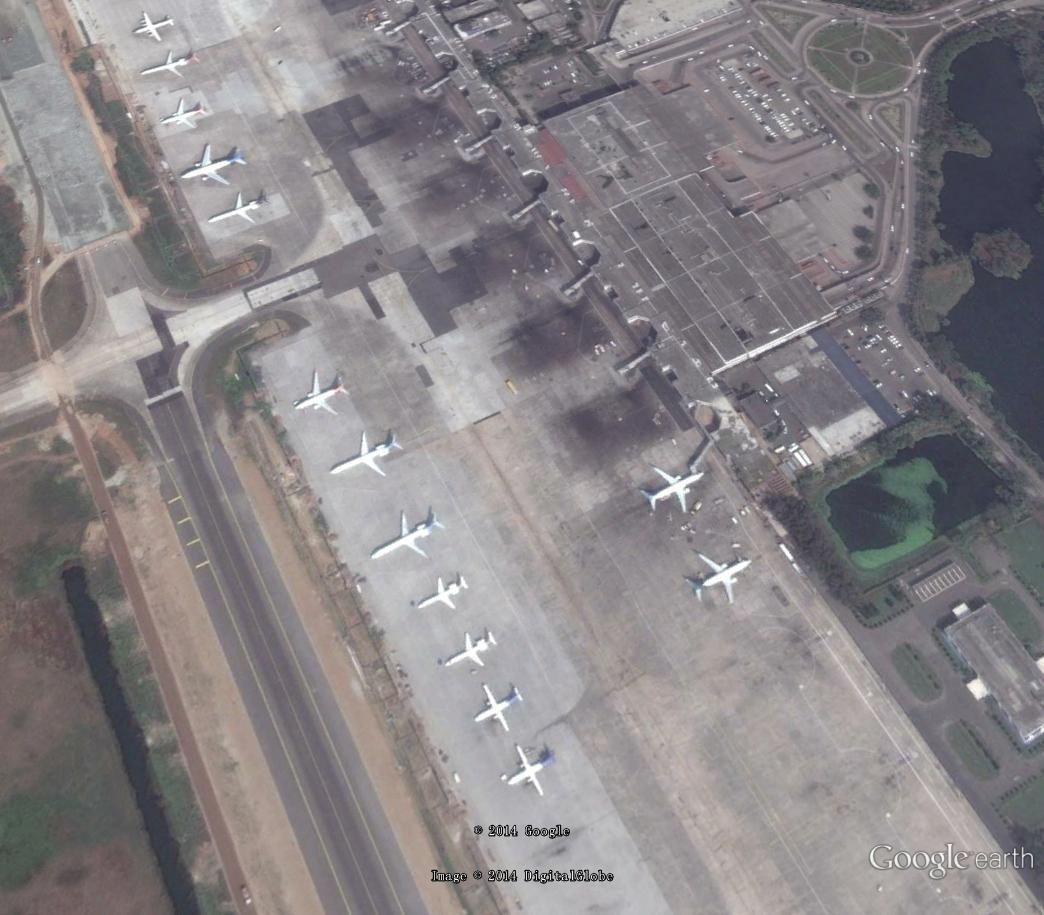aircraft: (367, 502, 448, 568), (679, 549, 756, 610), (327, 426, 412, 481), (636, 459, 711, 520), (504, 738, 564, 802), (177, 138, 250, 189), (292, 369, 358, 423), (475, 679, 526, 736), (442, 627, 502, 672), (414, 573, 474, 618), (204, 189, 268, 231), (139, 46, 204, 84), (159, 94, 211, 133), (133, 7, 181, 45)
